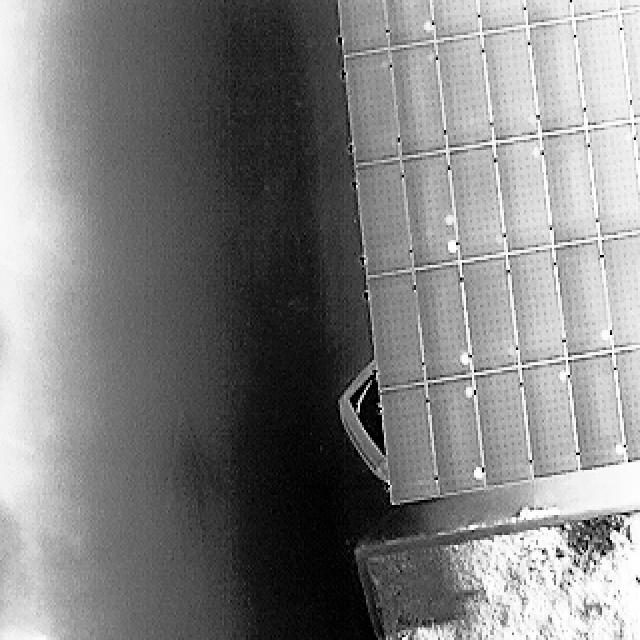Hotspots: (458, 381, 480, 406), (590, 324, 616, 345), (417, 18, 439, 38), (557, 366, 576, 389), (440, 209, 459, 230), (443, 232, 459, 256), (614, 435, 628, 462), (456, 344, 471, 369), (470, 464, 486, 483)
PV-modules: (505, 244, 571, 369), (457, 252, 522, 377), (553, 237, 616, 362), (565, 346, 628, 470), (480, 21, 543, 145), (445, 142, 509, 264), (412, 260, 474, 384), (519, 355, 580, 481), (366, 267, 427, 393), (433, 32, 496, 154), (526, 17, 590, 137), (472, 364, 534, 487), (493, 131, 555, 254), (537, 128, 600, 249), (352, 158, 414, 280), (571, 9, 634, 129), (401, 149, 461, 271), (377, 383, 437, 504), (343, 47, 403, 167), (426, 374, 485, 496), (390, 39, 449, 160), (584, 117, 640, 240), (598, 227, 640, 351), (613, 342, 640, 465), (337, 0, 391, 58), (617, 5, 640, 122), (430, 0, 484, 46), (473, 0, 532, 36), (521, 0, 575, 28), (568, 0, 622, 22), (632, 115, 640, 193), (616, 0, 640, 15)
